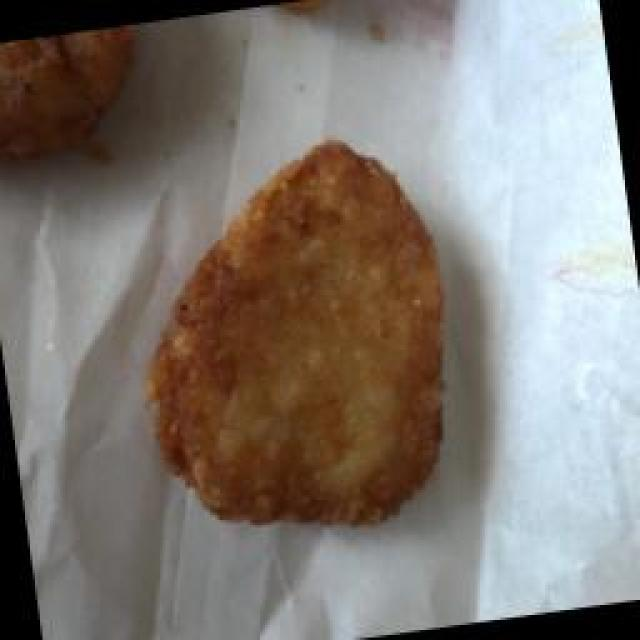triangle_hash_brown: (102, 118, 480, 563)
